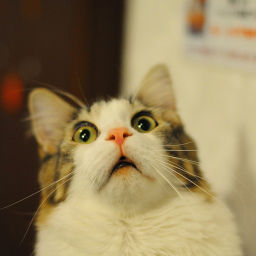cat: (19, 66, 241, 256)
